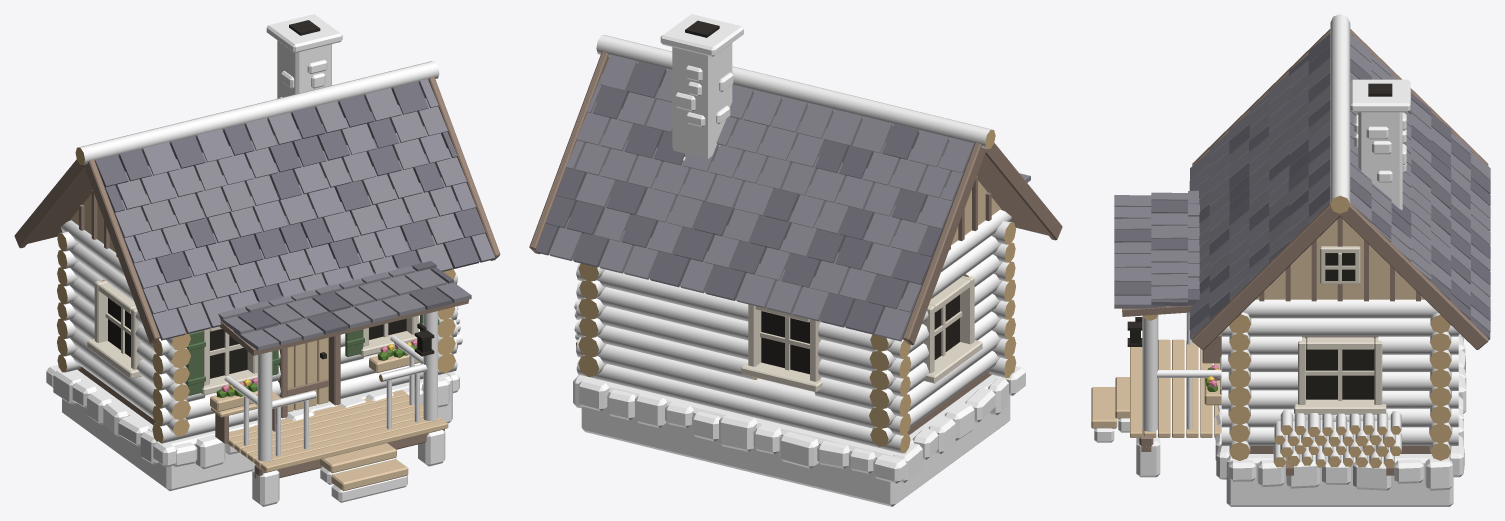
The model's file is lodge.glb.
The picture shows the model from 3 angles, left to right: view 1: azimuth 30°, elevation 25°; view 2: azimuth 150°, elevation 25°; view 3: azimuth 270°, elevation 25°; orthographic projection. The views are drawn at different scales.
Parts seen in each view (by area): view 1: Lodge; view 2: Lodge; view 3: Lodge.
Part boxes in pixels (x1,y1,x2,y2): Lodge: [14, 14, 500, 506]; Lodge: [529, 14, 1062, 506]; Lodge: [1091, 14, 1490, 506].
Bounding box in the file's own units: 2.14 × 2.09 × 1.99.
